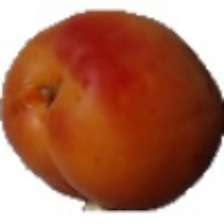apricot: (7, 15, 194, 215)
